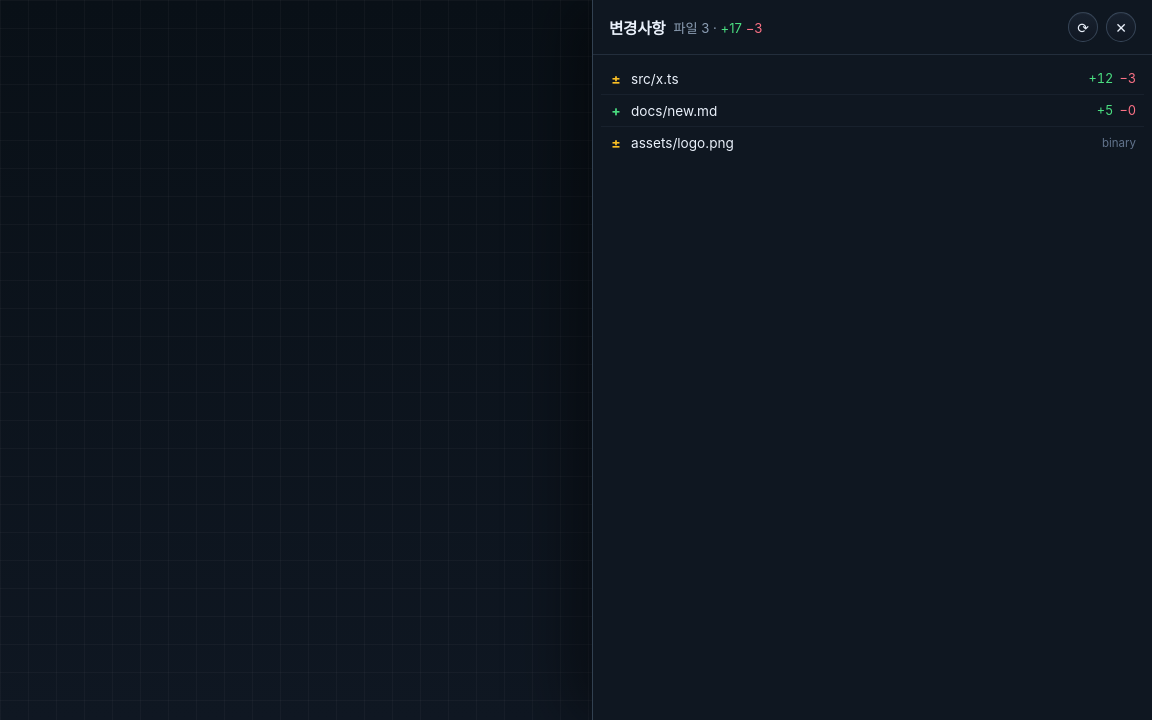
DiffPanel › 파일 클릭 시에만 diff를 가져오고 unified 라인을 펼친다
Expected: the text "src/x.ts" is shown, x1=631 y1=70 x2=679 y2=86
Click the button "± src/x.ts +12 −3".
click(655, 78)  # box x1=601 y1=63 x2=1144 y2=94
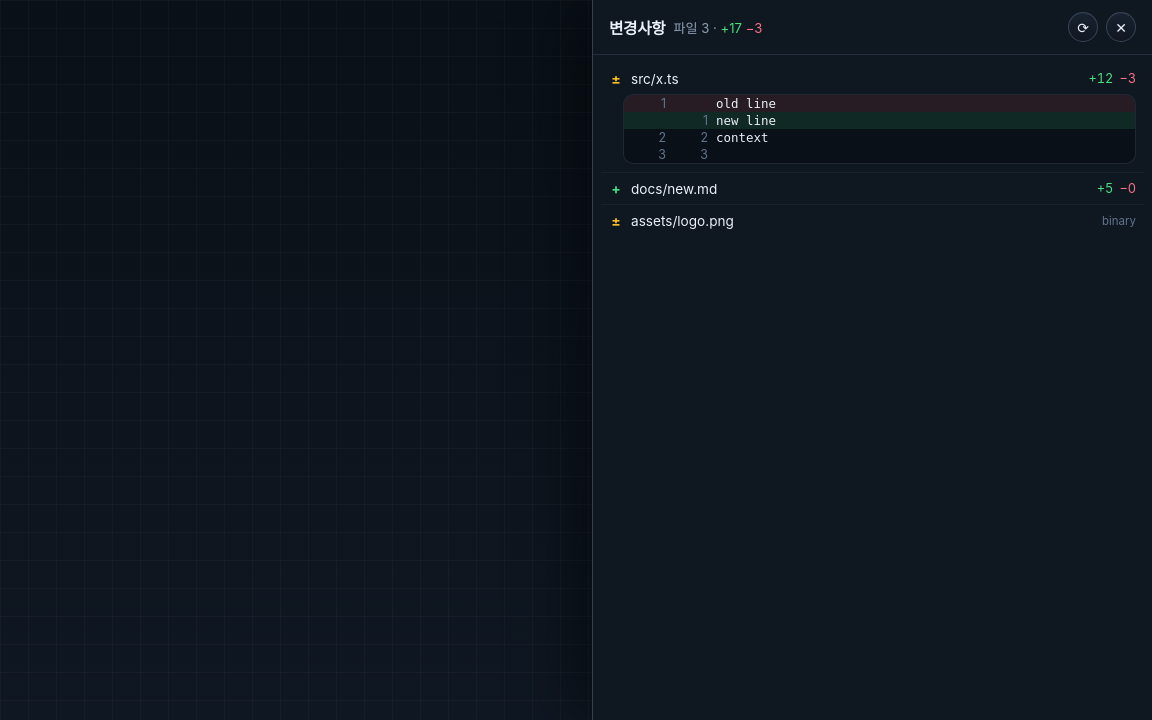
Expected: the text "new line" is shown, x1=716 y1=113 x2=784 y2=128
Expected: the text "old line" is shown, x1=716 y1=96 x2=784 y2=111
Click the button "± src/x.ts +12 −3".
click(655, 78)  # box x1=601 y1=63 x2=1144 y2=94
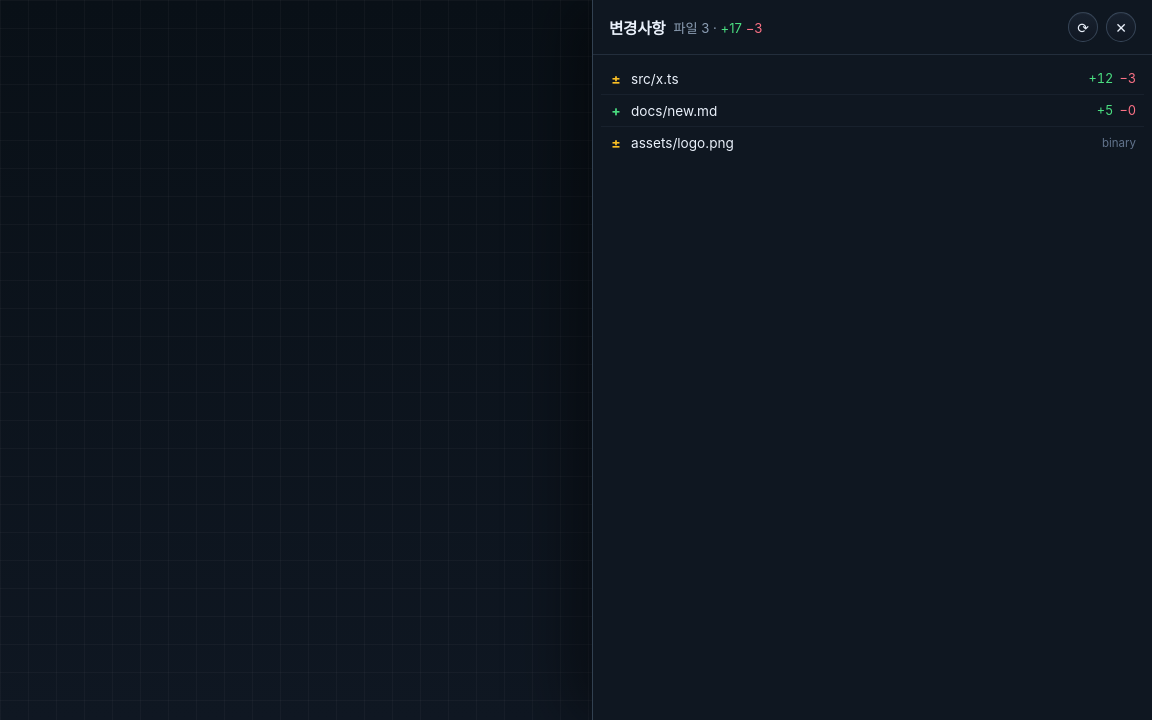
Expected: the text "new line" is gone
